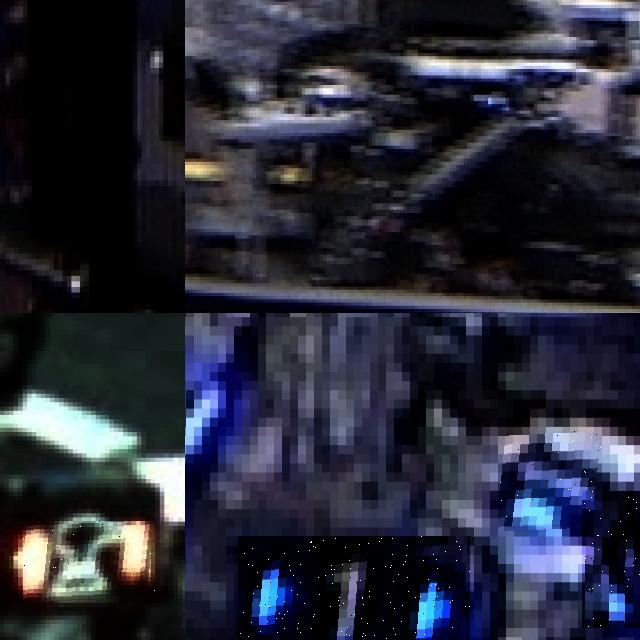B1: (238, 536, 470, 640), (498, 431, 602, 532), (582, 491, 640, 628)
Rs: (23, 521, 155, 603)
